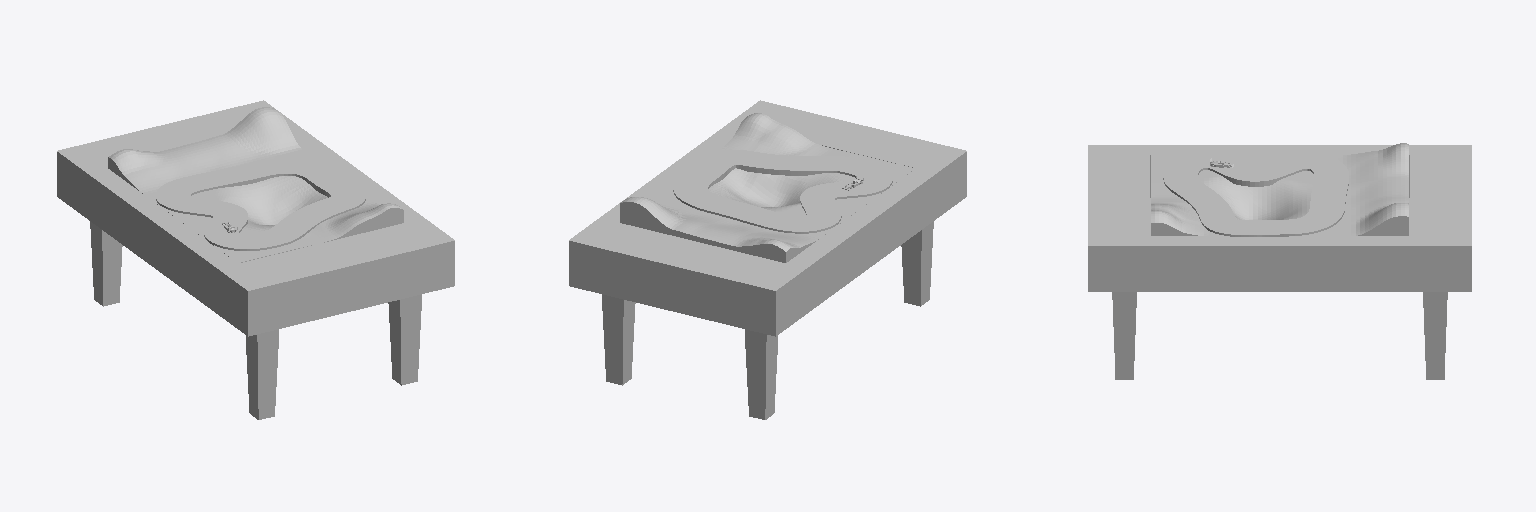
The model's file is NewestTisch69.obj.
3 renders of one model, left to right at view 1: azimuth 30°, elevation 25°; view 2: azimuth 150°, elevation 25°; view 3: azimuth 270°, elevation 25°, orthographic.
Visible parts, largest first — view 1: Tischplatte_wood_table_001, Landschaft_aerial_grass_rock, off, Bein1_wood_table_001, Bein4_wood_table_001.003, Bein3_wood_table_001.002; view 2: Tischplatte_wood_table_001, Landschaft_aerial_grass_rock, off, Bein2_wood_table_001.001, Bein3_wood_table_001.002, Bein4_wood_table_001.003; view 3: Tischplatte_wood_table_001, Landschaft_aerial_grass_rock, off, Bein1_wood_table_001, Bein2_wood_table_001.001.
Boxes of the visible parts, <box> form: Tischplatte_wood_table_001: <box>57,100,454,336</box>; Landschaft_aerial_grass_rock: <box>108,107,403,262</box>; off: <box>156,159,365,250</box>; Bein1_wood_table_001: <box>388,294,421,385</box>; Bein4_wood_table_001.003: <box>246,329,278,419</box>; Bein3_wood_table_001.002: <box>90,221,122,306</box>; Tischplatte_wood_table_001: <box>569,100,966,336</box>; Landschaft_aerial_grass_rock: <box>620,113,915,262</box>; off: <box>673,150,892,233</box>; Bein2_wood_table_001.001: <box>602,294,635,385</box>; Bein3_wood_table_001.002: <box>745,329,777,419</box>; Bein4_wood_table_001.003: <box>901,221,933,306</box>; Tischplatte_wood_table_001: <box>1088,145,1471,291</box>; Landschaft_aerial_grass_rock: <box>1151,143,1408,235</box>; off: <box>1163,153,1348,236</box>; Bein1_wood_table_001: <box>1112,292,1136,379</box>; Bein2_wood_table_001.001: <box>1423,292,1447,379</box>.
Bounding box in the file's own units: 5 × 3.91 × 8.